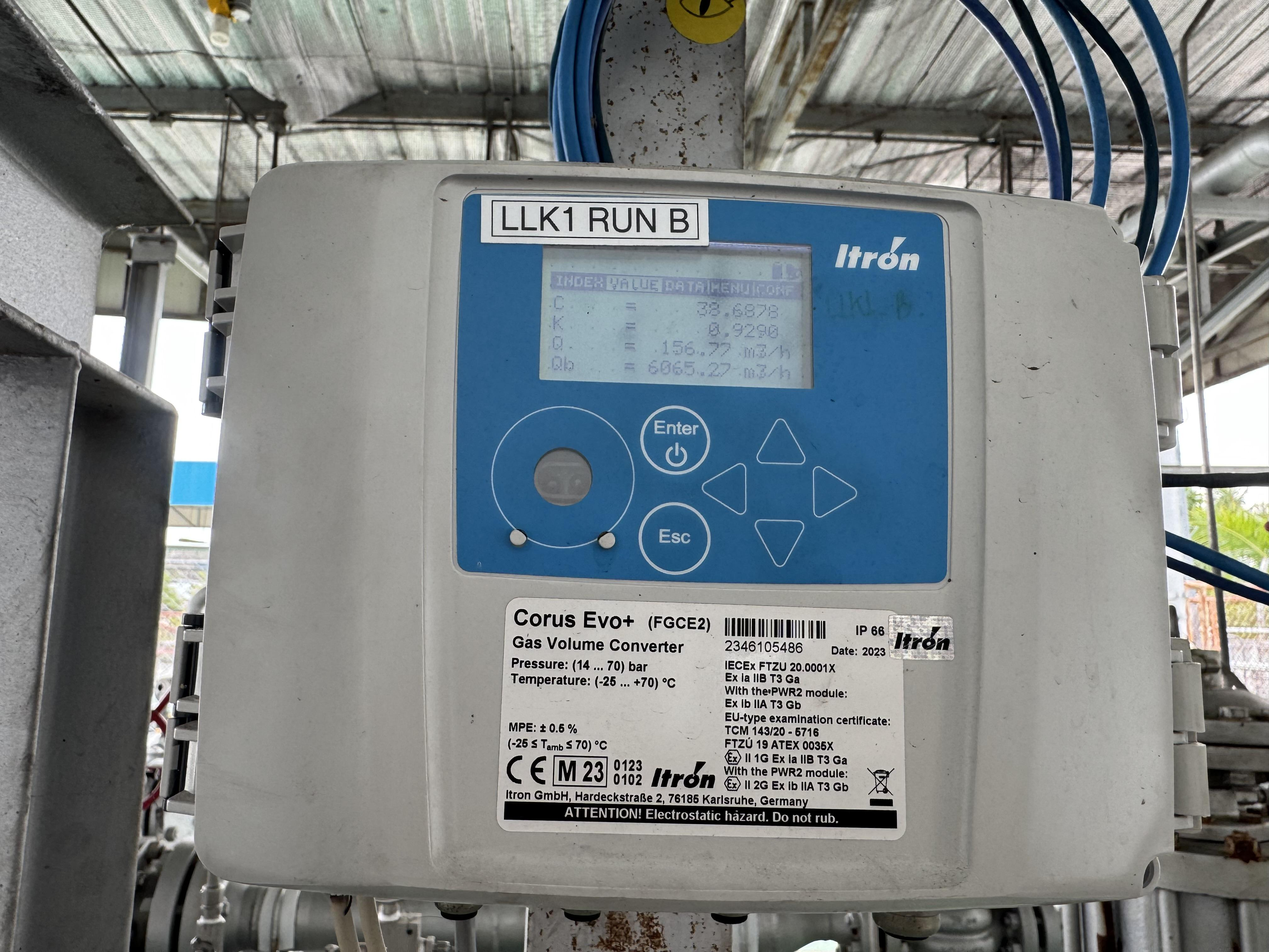digital_screen: (538, 236, 819, 389)
